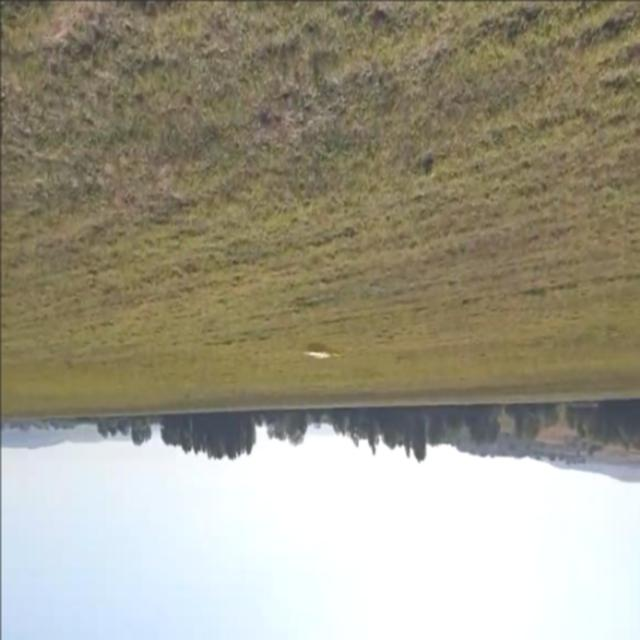plane: (301, 348, 340, 358)
